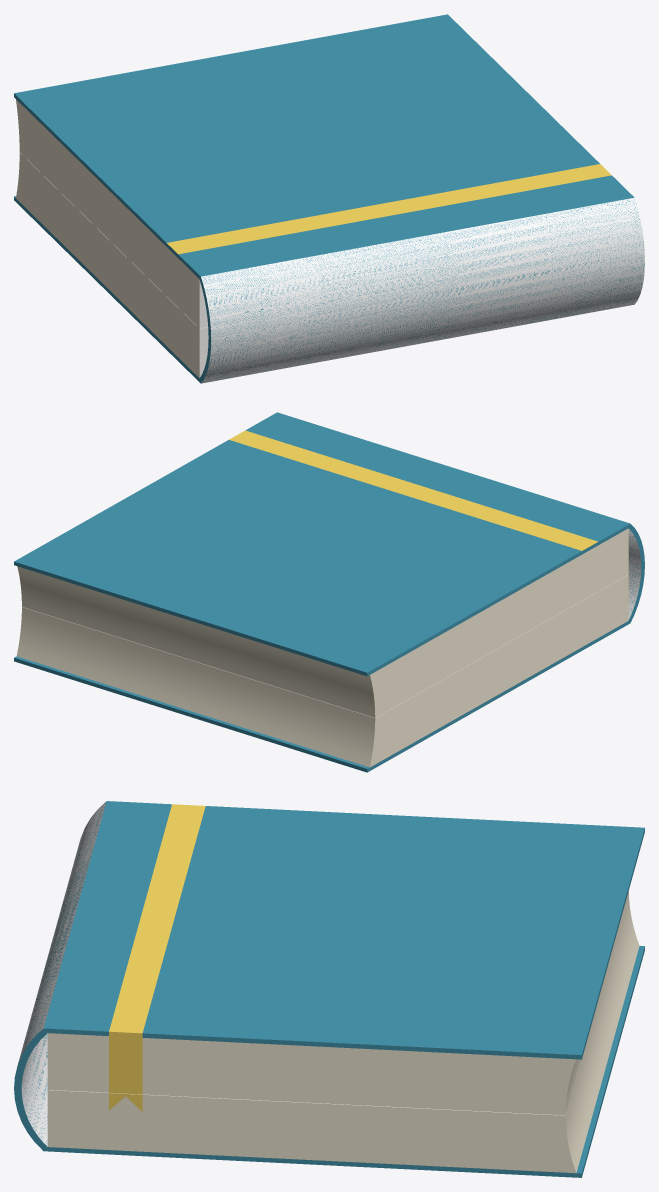
File: Storybook.dae
3 renders of one model, top to bottom at view 1: azimuth 30°, elevation 25°; view 2: azimuth 150°, elevation 25°; view 3: azimuth 270°, elevation 25°, orthographic. The views are drawn at different scales.
Parts seen in each view (by area): view 1: book; view 2: book; view 3: book.
Part boxes in pixels (x1,y1,x2,y2): book: (14, 14, 644, 383); book: (14, 412, 644, 772); book: (14, 801, 644, 1177).
Size of the model in its own units: 87.88 by 91.68 by 19.68.
